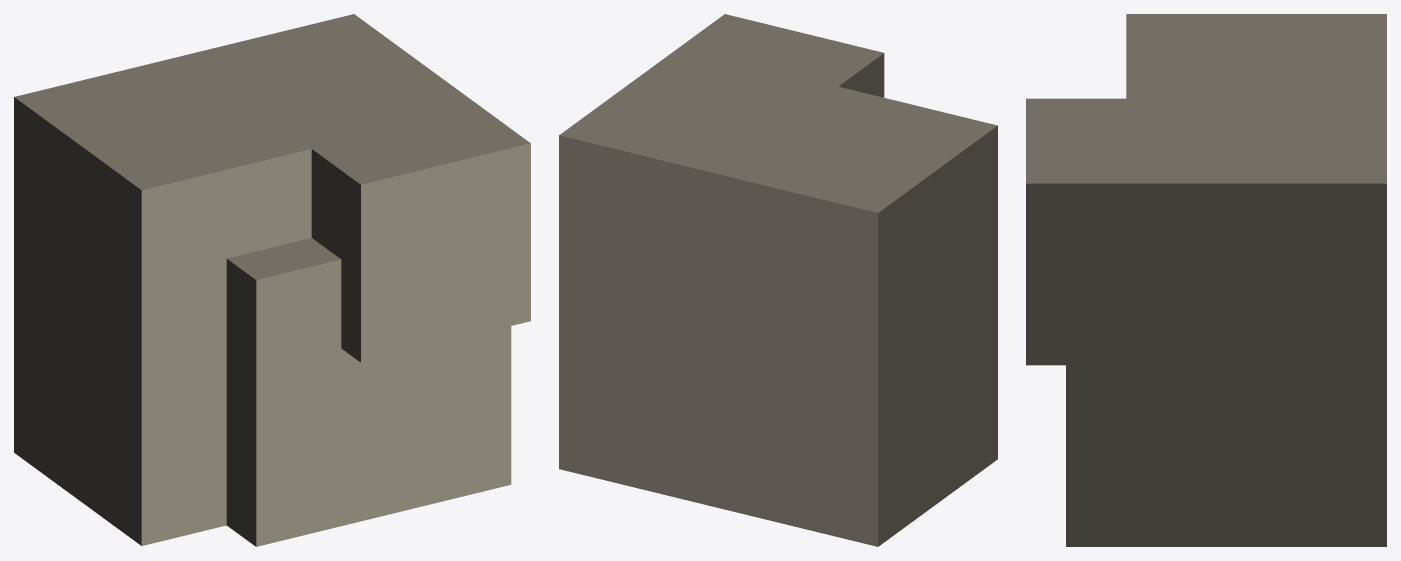
3 views of the same model, side by side, from view 1: azimuth 30°, elevation 25°; view 2: azimuth 150°, elevation 25°; view 3: azimuth 270°, elevation 25° (orthographic). The views are drawn at different scales.
Visible parts, largest first — view 1: stone.2; view 2: stone.2; view 3: stone.2.
Boxes of the visible parts, <box> form: stone.2: <box>14,14,530,546</box>; stone.2: <box>559,14,997,546</box>; stone.2: <box>1026,14,1386,546</box>.
Size of the model in its own units: 1 by 1 by 0.9.
